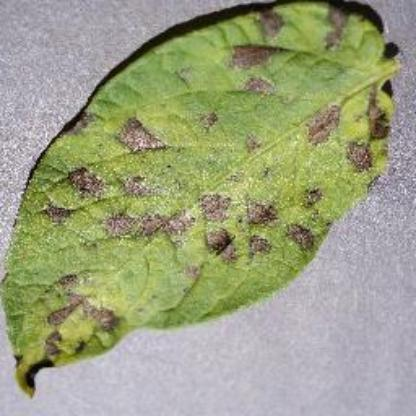Early-Blight: (5, 3, 406, 397)
